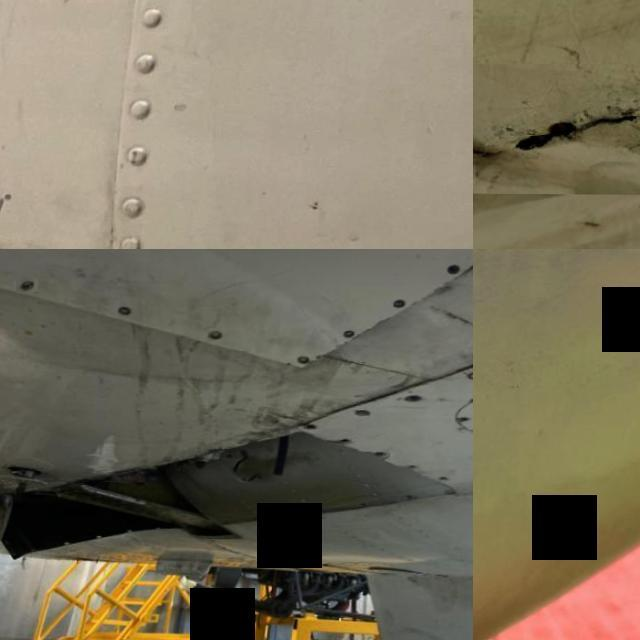Crack: (473, 63, 640, 195)
Missing_Fastener: (114, 303, 140, 318), (18, 278, 41, 294), (392, 296, 413, 310), (208, 330, 230, 341), (298, 354, 317, 366), (446, 263, 463, 276), (340, 328, 362, 338), (306, 423, 324, 432), (410, 392, 426, 402), (343, 436, 356, 446), (379, 450, 392, 458), (444, 474, 455, 482)
